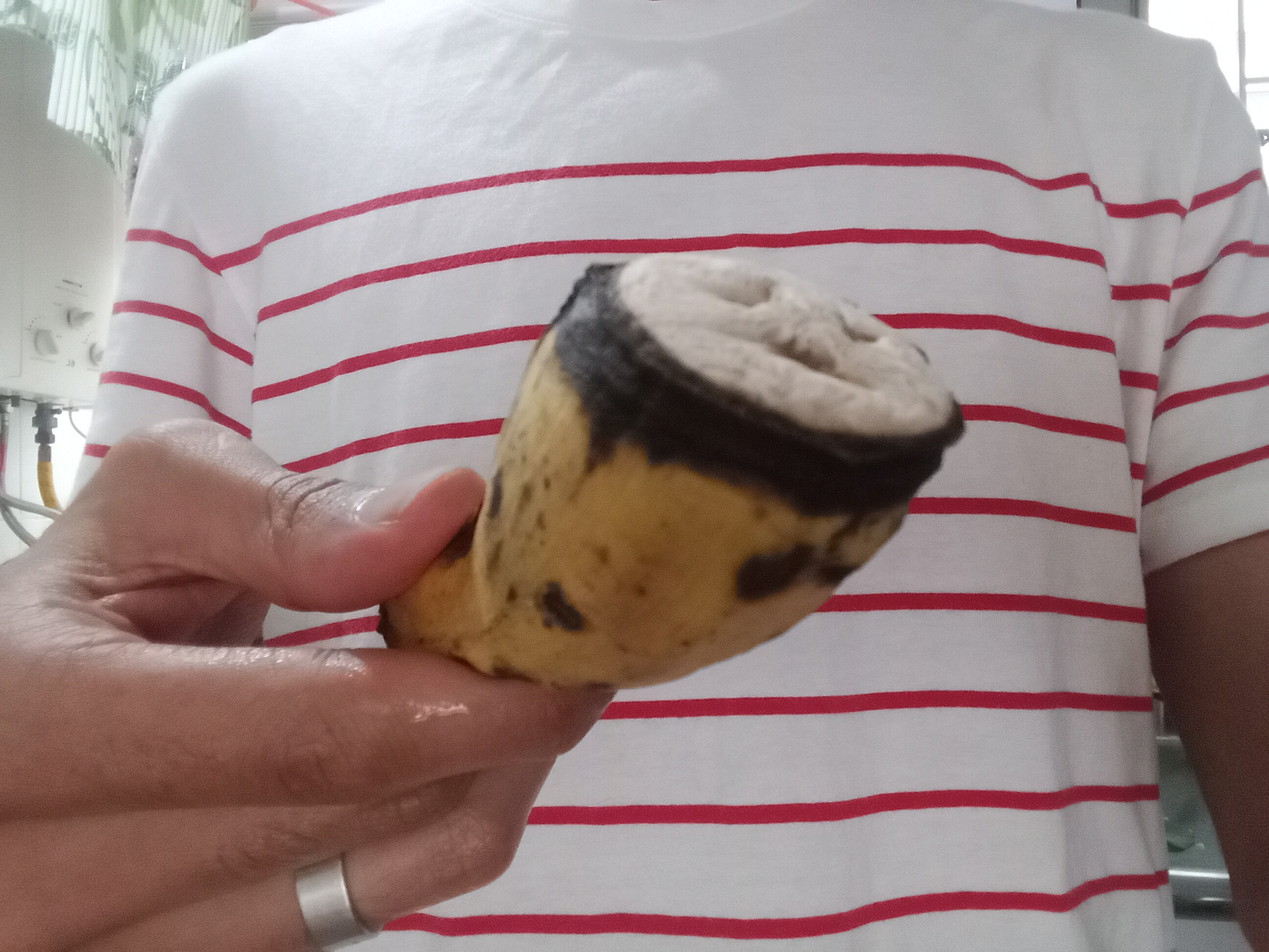Organico: (388, 250, 965, 688)
